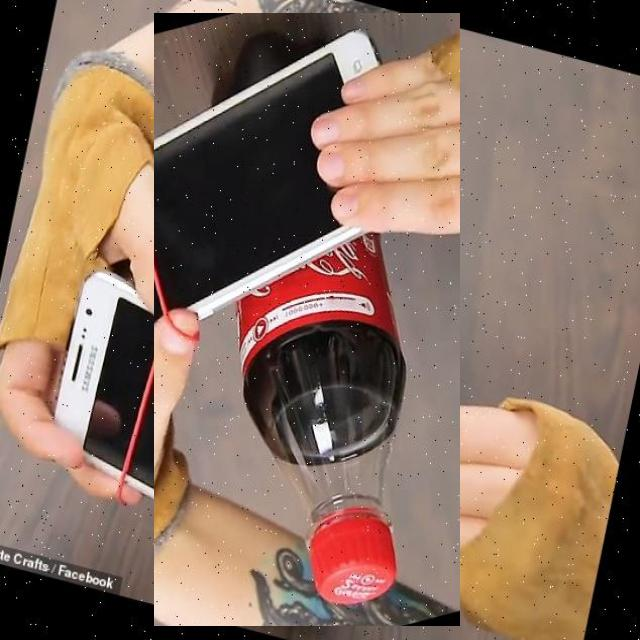coca-cola: (154, 13, 460, 626)
